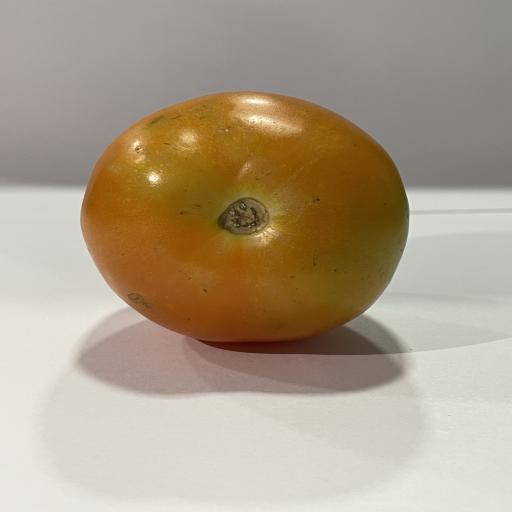unripe: (81, 92, 409, 342)
